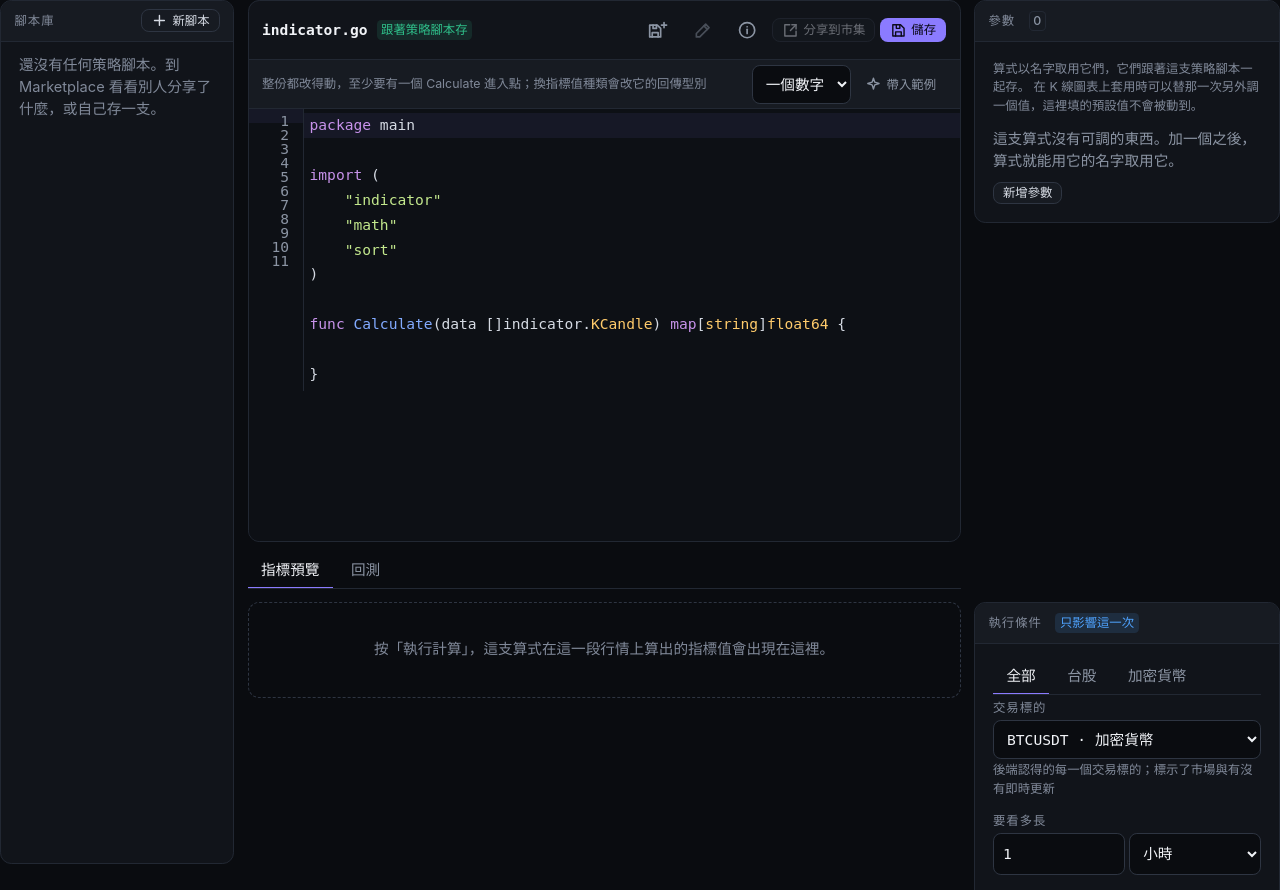
Test: 策略腳本畫面上的參數 › 新增出來的那一列名稱是空的、種類是回看根數、值是 20
Click the button with test id "add-parameter-button" at (1028, 193), box [993,182,1062,204]
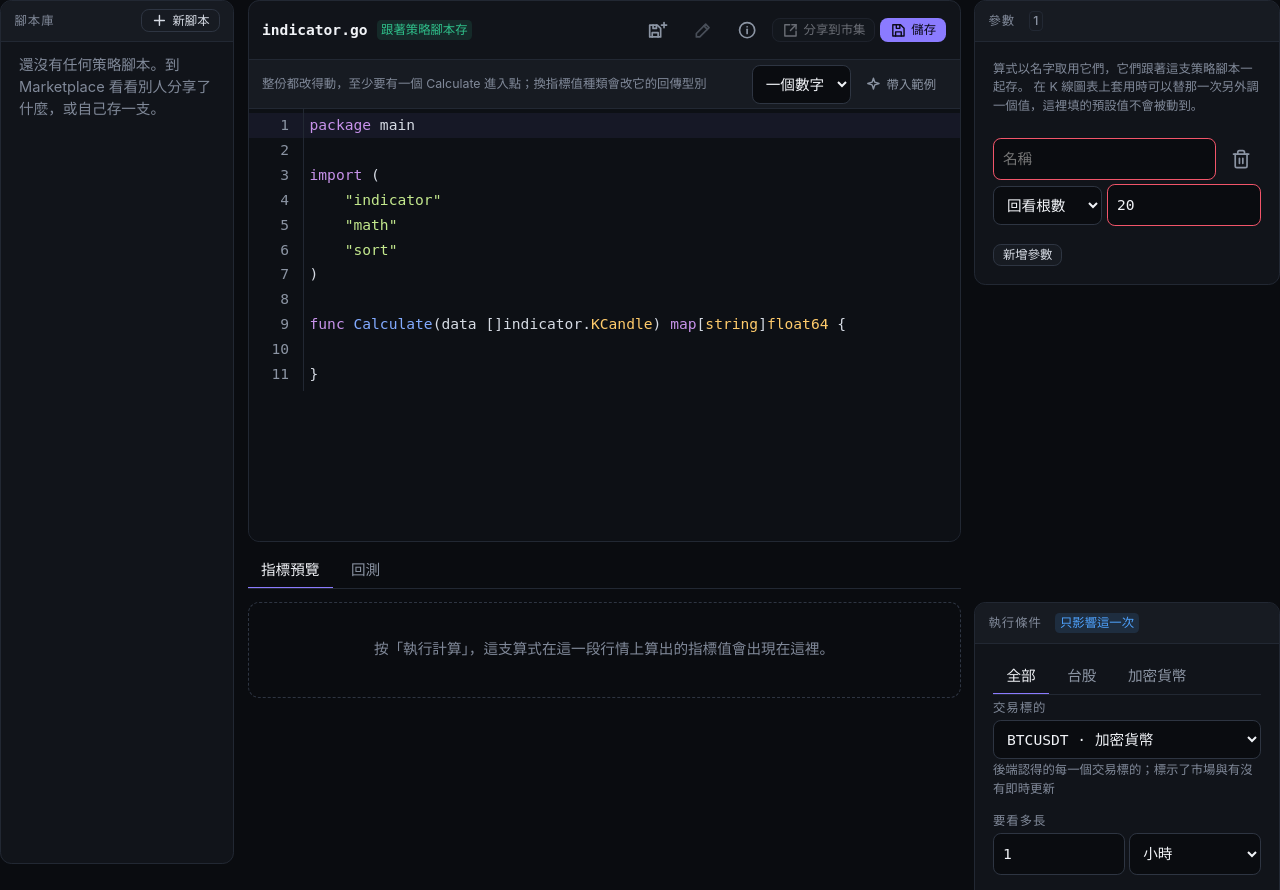
expect the field with test id "parameter-name-input" is empty: met, box [993,138,1216,180]
expect the dropdown with test id "parameter-kind-select" shows "回看根數": met, box [993,186,1102,225]
expect the number field with test id "parameter-value-input" holds "20": met, box [1107,184,1261,226]
